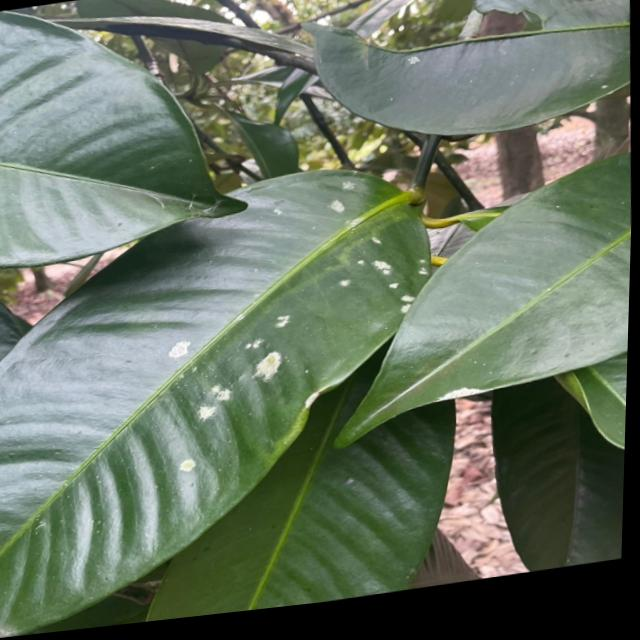Leaf Spot: (344, 245, 427, 330), (236, 323, 315, 399), (302, 171, 374, 236), (180, 387, 231, 434), (392, 45, 439, 87), (168, 452, 224, 487), (153, 329, 189, 373)
